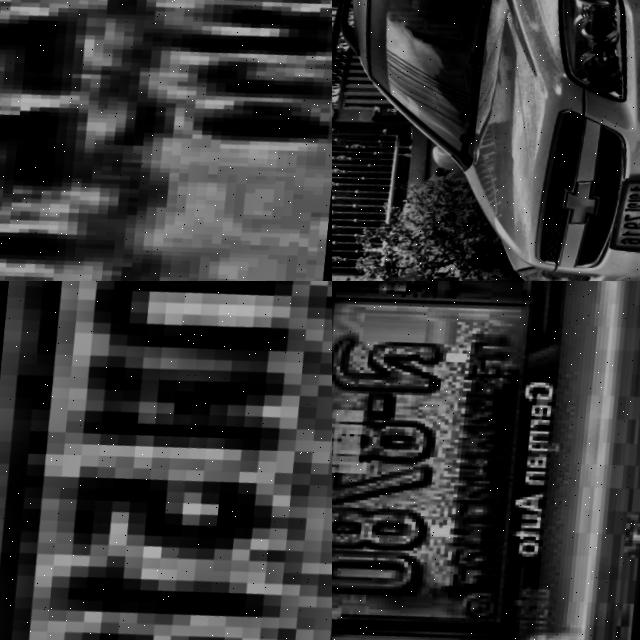license-plate: (0, 281, 332, 640), (0, 0, 332, 281), (332, 281, 577, 640), (598, 172, 640, 271)
